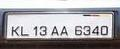0: (100, 24, 108, 36)
1: (32, 25, 39, 37)
3: (38, 24, 47, 36), (82, 25, 91, 36)
4: (91, 25, 100, 36)
6: (73, 24, 83, 36)
A: (59, 25, 69, 37), (50, 25, 60, 36)
K: (10, 25, 20, 37)
L: (19, 25, 29, 37)
